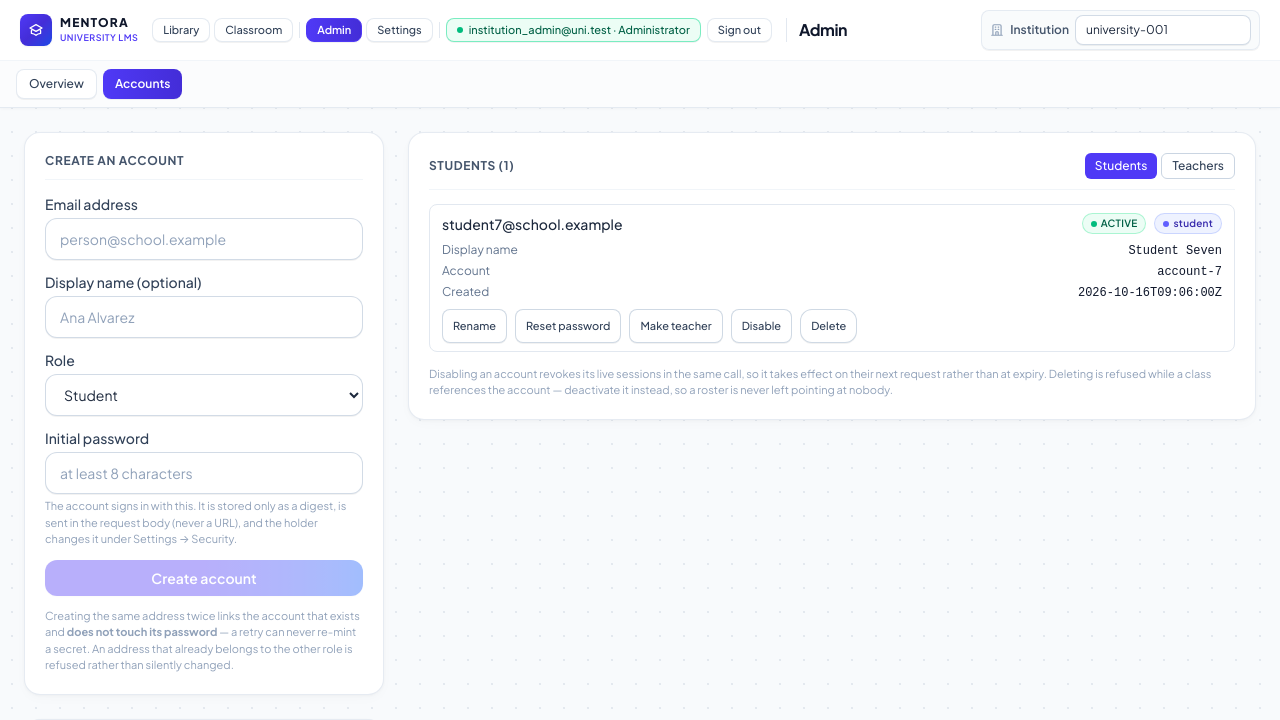
Scenario: AdminPage — the directory, by capability › resets a password and reports the sessions the reset revoked
The image size is (1280, 720).
Step 1. Click the button "Reset password" → (568, 326), box [515, 309, 622, 343]
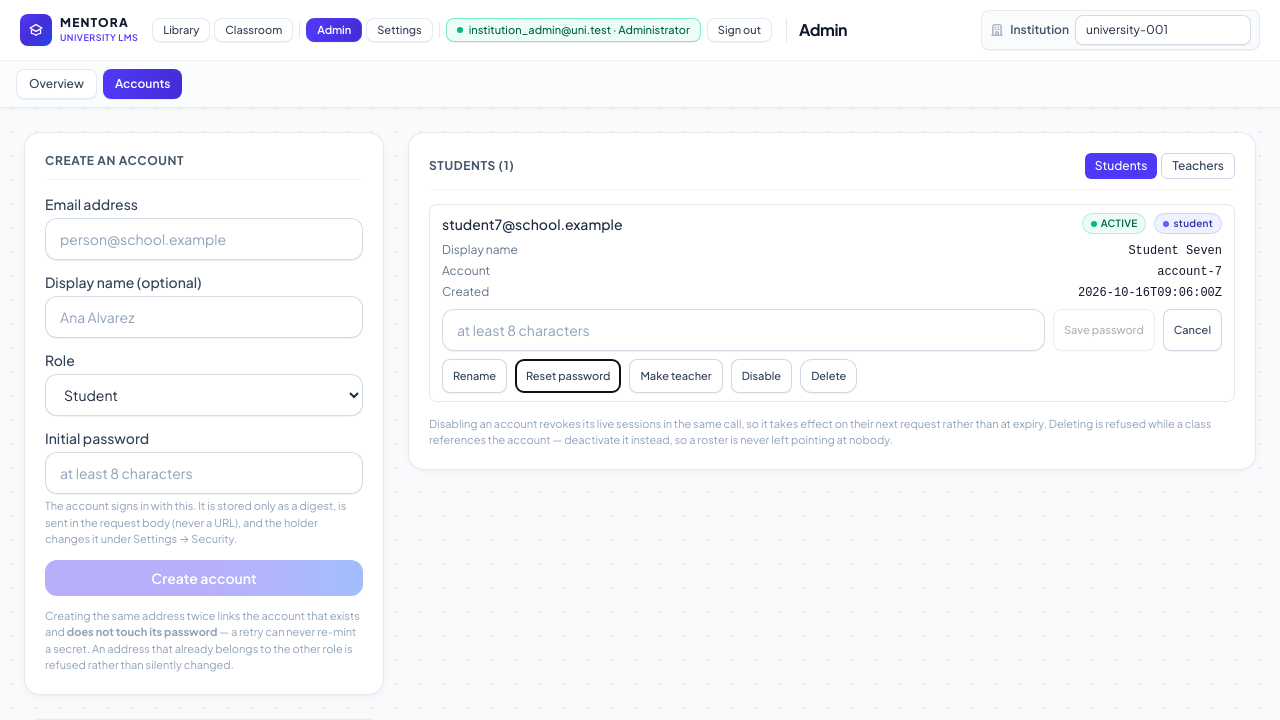
Step 2. Type "reset-pass-1" into the password field named "New password" → (744, 330), box [442, 309, 1045, 351]
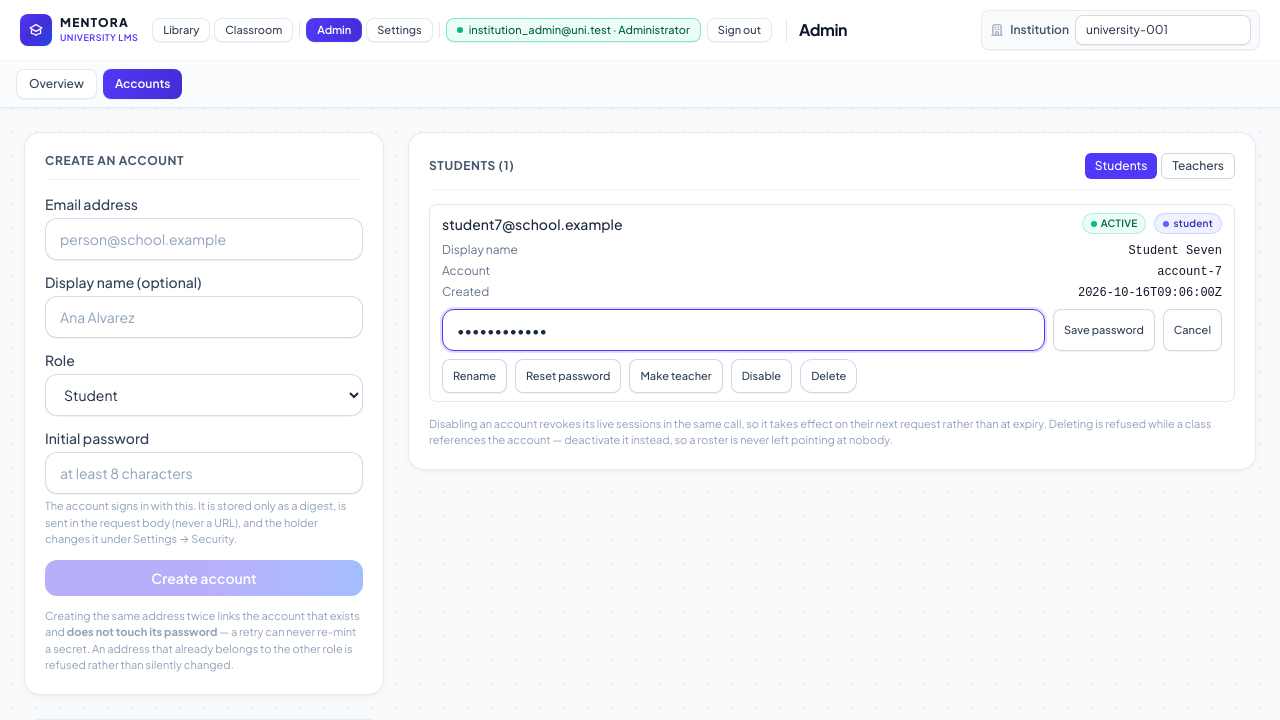
Step 3. Click the button "Save password" → (1104, 330), box [1053, 309, 1155, 351]
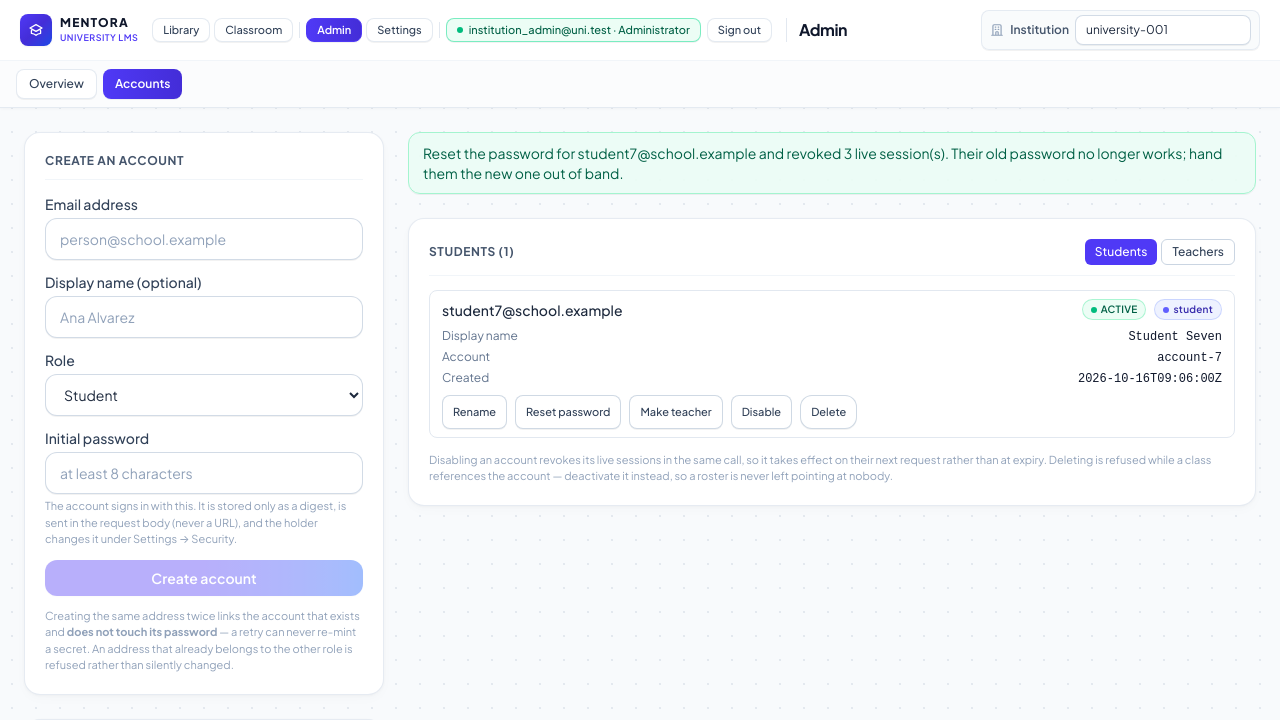
Expected: the text "revoked 3 live session" is shown, [423, 144, 1222, 182]
